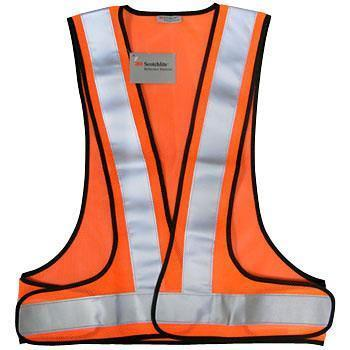vest: (14, 2, 335, 347)
